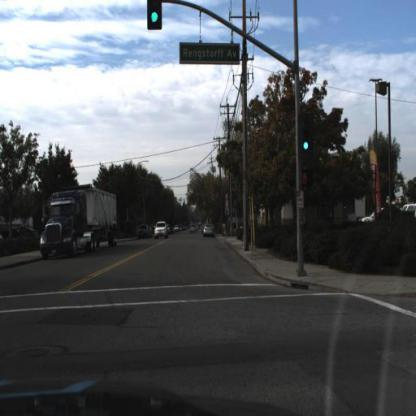car: (154, 223, 169, 241), (202, 224, 217, 242)
trafficLight-Green: (300, 114, 314, 165)
truck: (39, 185, 118, 261), (40, 187, 123, 257)
